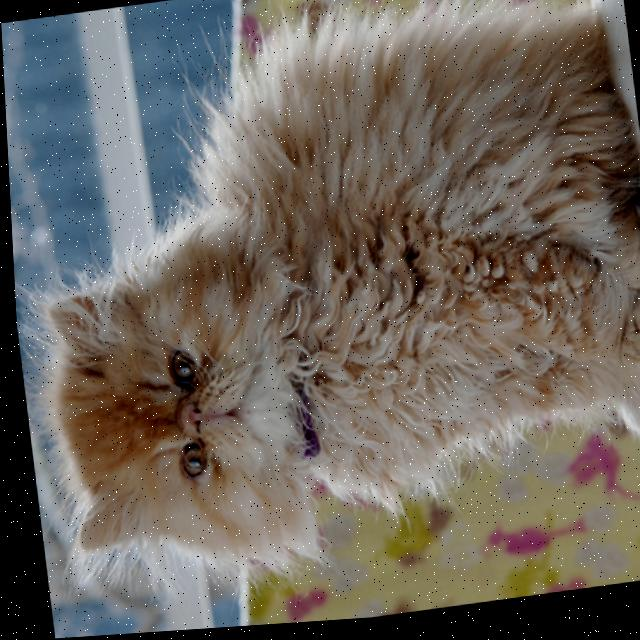Persian: (0, 0, 640, 603)
